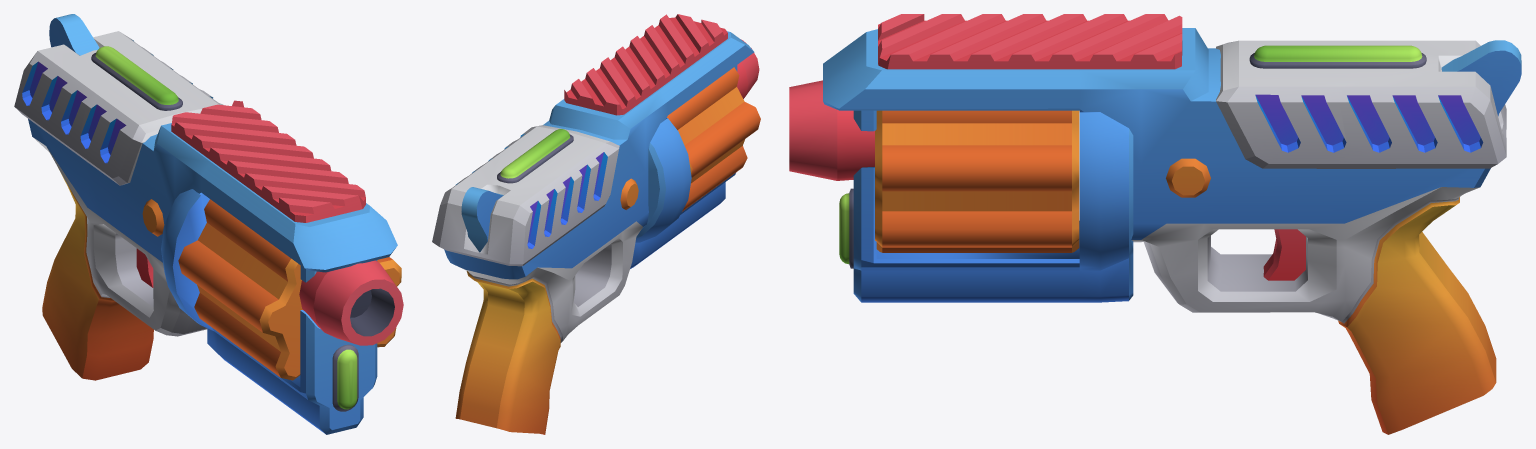
The model's file is Pistol C.fbx.
3 views of the same model, side by side, from view 1: azimuth 30°, elevation 25°; view 2: azimuth 150°, elevation 25°; view 3: azimuth 270°, elevation 25° (orthographic). The views are drawn at different scales.
Parts seen in each view (by area): view 1: Pistol C, Pistol C.001; view 2: Pistol C, Pistol C.001; view 3: Pistol C, Pistol C.001.
Boxes of the visible parts, x1,y1,x2,y2 form: Pistol C: [14, 14, 403, 434]; Pistol C.001: [178, 199, 401, 380]; Pistol C: [432, 14, 759, 434]; Pistol C.001: [667, 67, 760, 211]; Pistol C: [789, 14, 1521, 434]; Pistol C.001: [875, 110, 1079, 252].
Bounding box in the file's own units: 0.2352 × 0.4935 × 0.8509.
